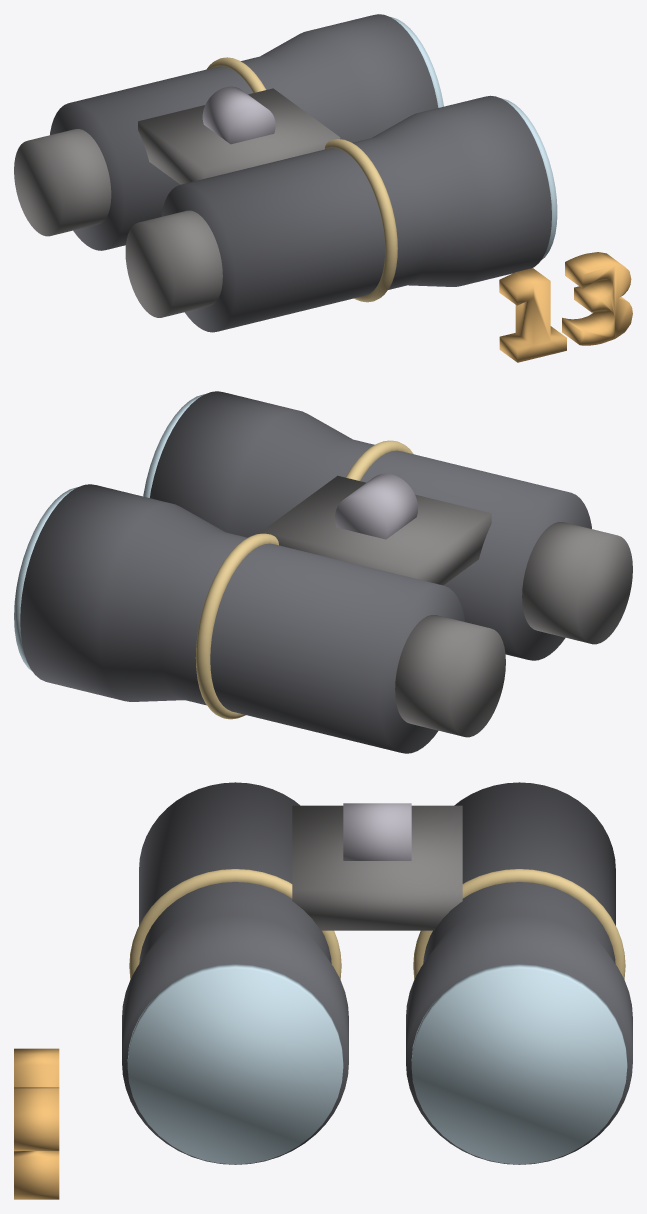
File: binoculars.glb
3 views of the same model, one above another, from view 1: azimuth 30°, elevation 25°; view 2: azimuth 150°, elevation 25°; view 3: azimuth 270°, elevation 25° (orthographic). The views are drawn at different scales.
Visible parts, largest first — view 1: part0, part3, part1; view 2: part0, part3, part1; view 3: part0, part1, part3.
Part boxes in pixels (x1,y1,x2,y2): part0: (14,14,632,362); part3: (206,57,397,302); part1: (390,17,557,260); part0: (20,391,632,753); part3: (195,440,413,719); part1: (14,394,203,671); part0: (14,782,632,1199); part1: (127,964,627,1164); part3: (129,869,625,979).
Size of the model in its own units: 0.9403 by 0.4445 by 1.
3 materials, 3 textured.
